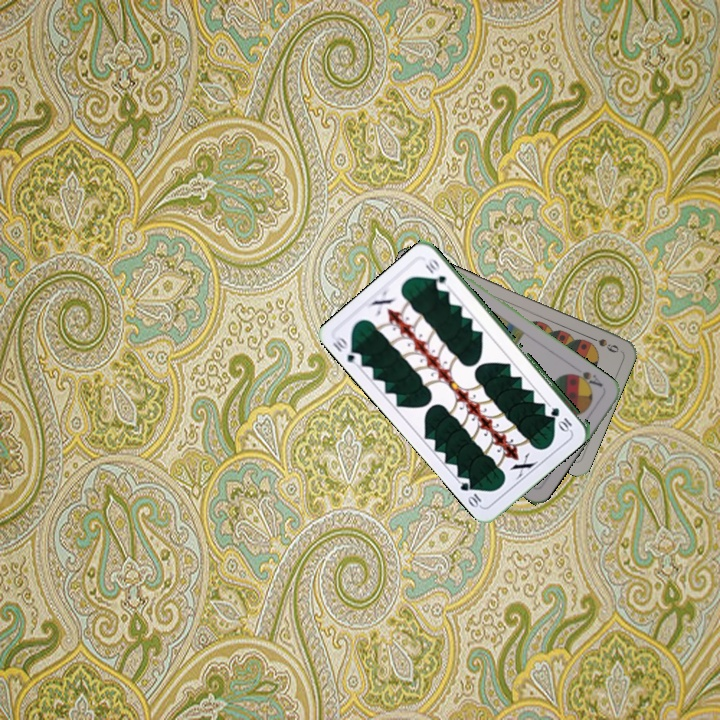G10: (329, 332, 365, 369), (547, 403, 575, 433)
S9: (584, 332, 621, 355)
SA: (568, 367, 606, 391)
